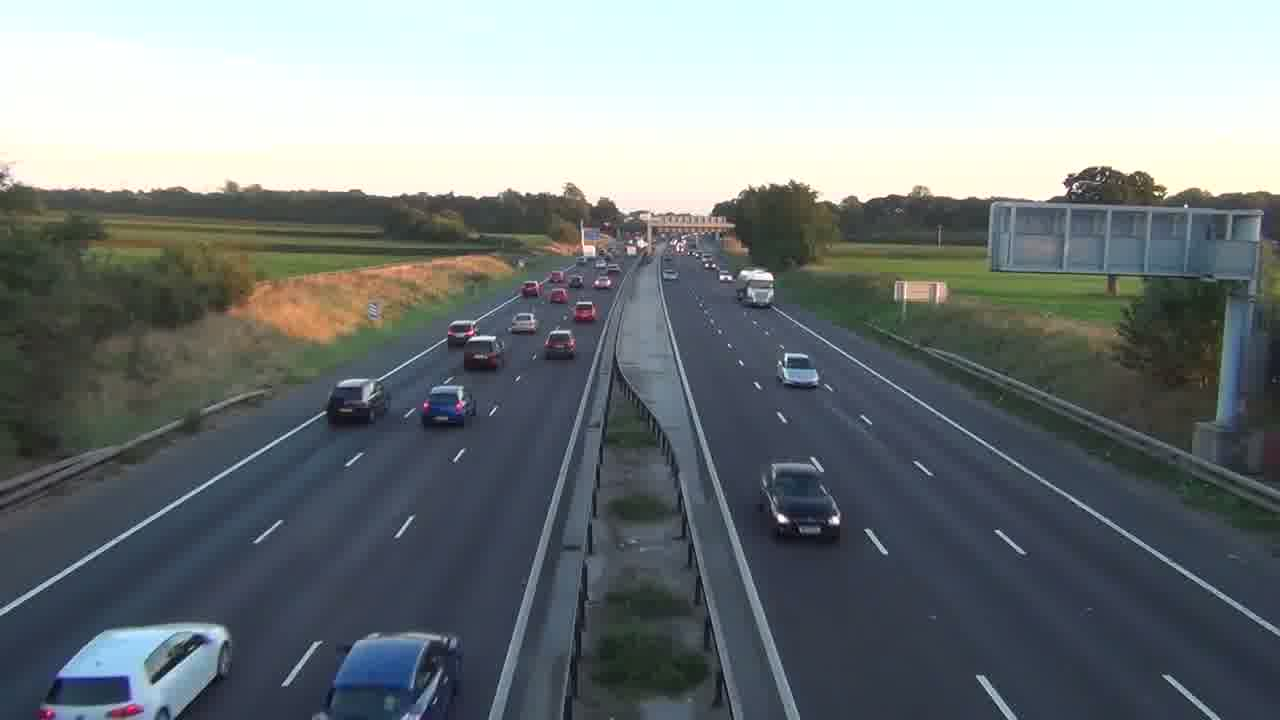car: (35, 621, 233, 718), (314, 630, 464, 720), (759, 458, 842, 541), (326, 377, 388, 424), (421, 383, 476, 427), (776, 352, 820, 389), (464, 334, 504, 371), (543, 329, 577, 359), (447, 319, 478, 346), (510, 312, 538, 334), (572, 301, 597, 323), (592, 275, 612, 290)
truck: (736, 269, 775, 308)
